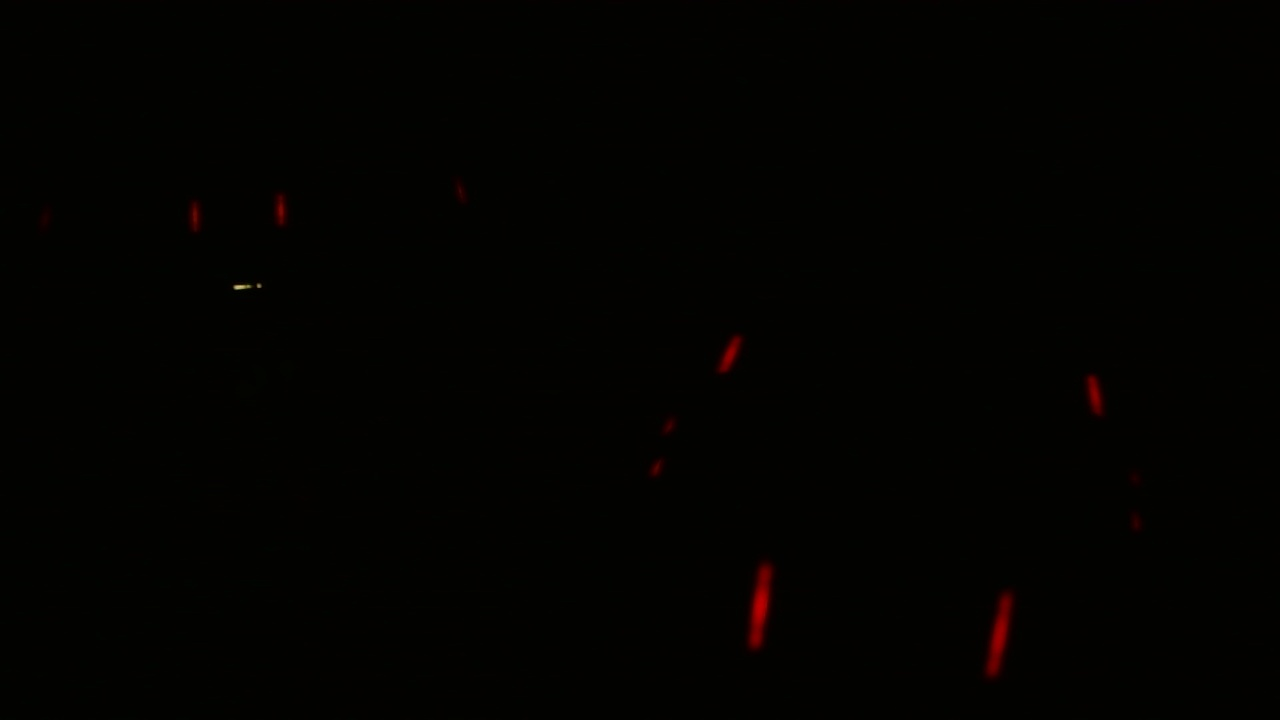pair1: (174, 184, 300, 246)
pair2: (738, 551, 1018, 687)
